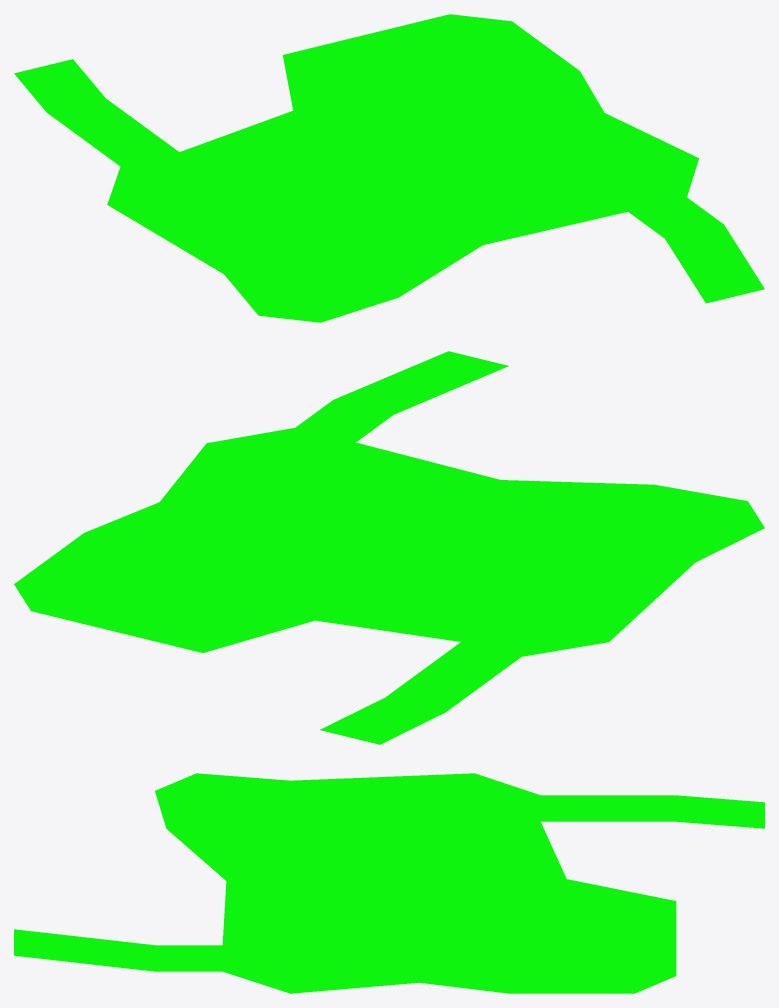
File: s01b_ib1-floor.glb
3 renders of one model, top to bottom at view 1: azimuth 30°, elevation 25°; view 2: azimuth 150°, elevation 25°; view 3: azimuth 270°, elevation 25°, orthographic. The views are drawn at different scales.
Parts seen in each view (by area): view 1: collision_floor-colonly; view 2: collision_floor-colonly; view 3: collision_floor-colonly.
Boxes of the visible parts, box(x1,y1,x2,y2) form: collision_floor-colonly: box(14, 14, 764, 322); collision_floor-colonly: box(14, 351, 764, 744); collision_floor-colonly: box(14, 773, 764, 993).
Size of the model in its own units: 50 by 0 by 72.
